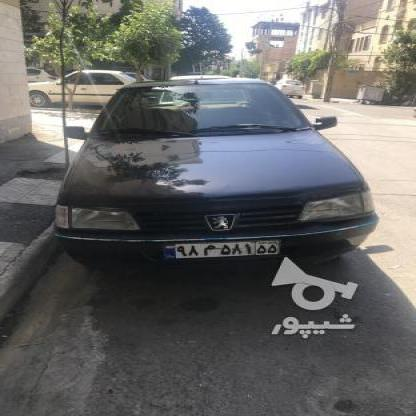licence: (159, 239, 276, 258)
